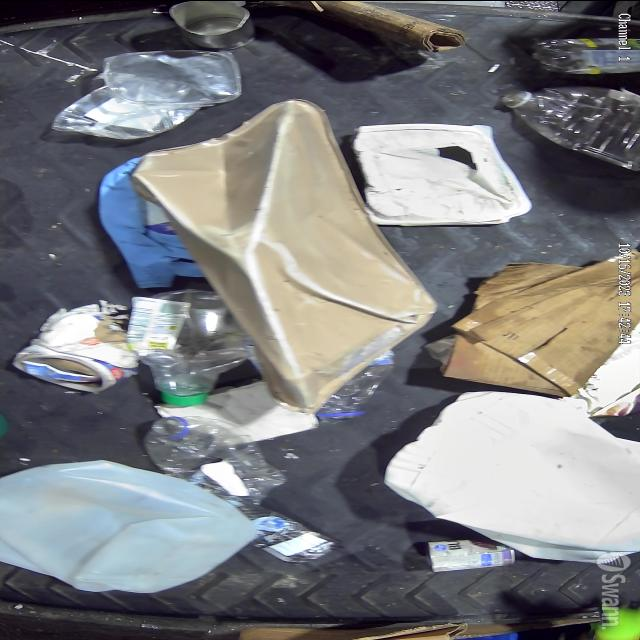can: (160, 0, 264, 50), (428, 535, 524, 572)
milk_jug: (384, 388, 640, 562), (0, 462, 262, 590)
plastic_bottle: (123, 289, 253, 407), (500, 84, 640, 172), (153, 414, 283, 496), (240, 499, 334, 559), (318, 352, 397, 422), (524, 32, 640, 78)
